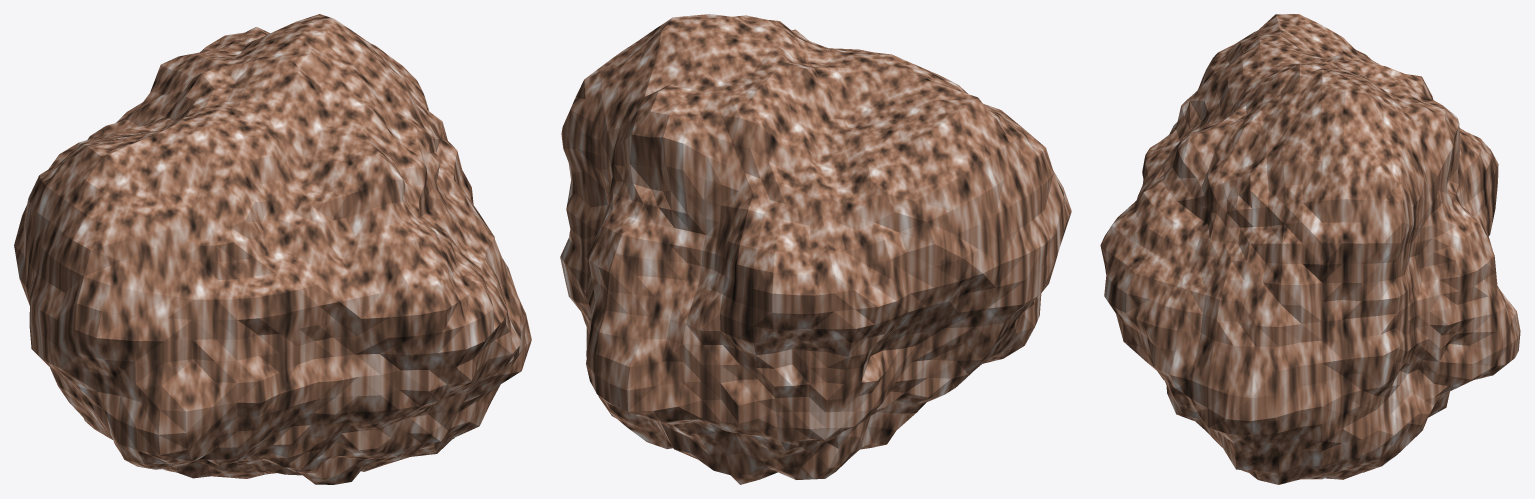
Rendered from asteroid.obj.
The picture shows the model from 3 angles, left to right: view 1: azimuth 30°, elevation 25°; view 2: azimuth 150°, elevation 25°; view 3: azimuth 270°, elevation 25°; orthographic projection. The views are drawn at different scales.
Parts seen in each view (by area): view 1: Low_Cube.001; view 2: Low_Cube.001; view 3: Low_Cube.001.
Boxes of the visible parts, x1,y1,x2,y2 form: Low_Cube.001: (14,14,531,484); Low_Cube.001: (560,14,1071,484); Low_Cube.001: (1100,14,1520,484).
Size of the model in its own units: 1.91 by 1.66 by 1.67.
1 material, 1 textured.
